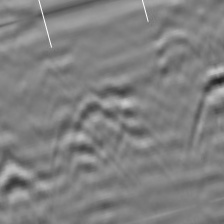Utility: (59, 84, 137, 150), (187, 70, 224, 142)
